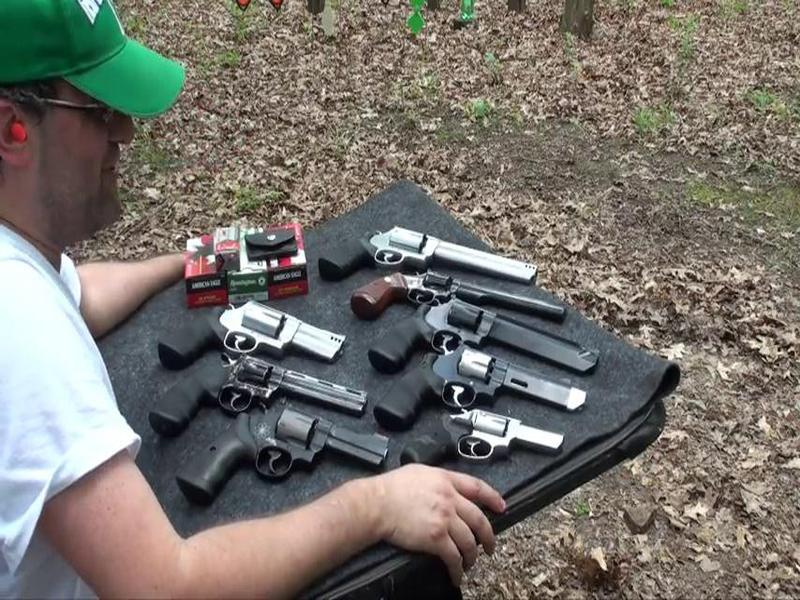Revolver: (318, 205, 547, 294)
